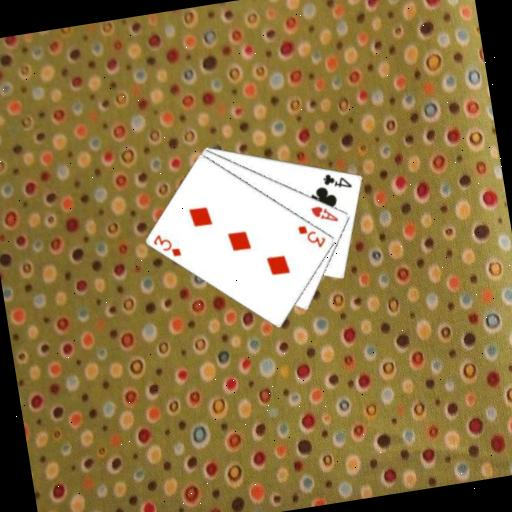3D: (293, 219, 328, 252), (149, 228, 184, 261)
4C: (318, 167, 353, 193)
AH: (307, 200, 340, 227)
